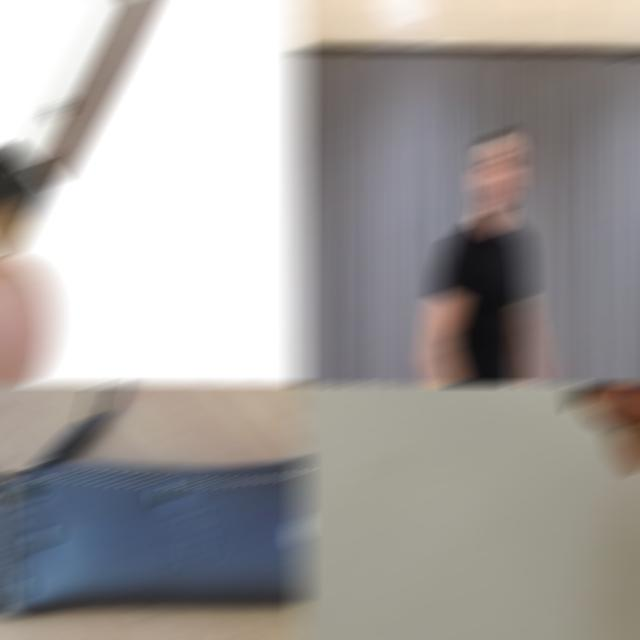Knife: (0, 2, 158, 254)
